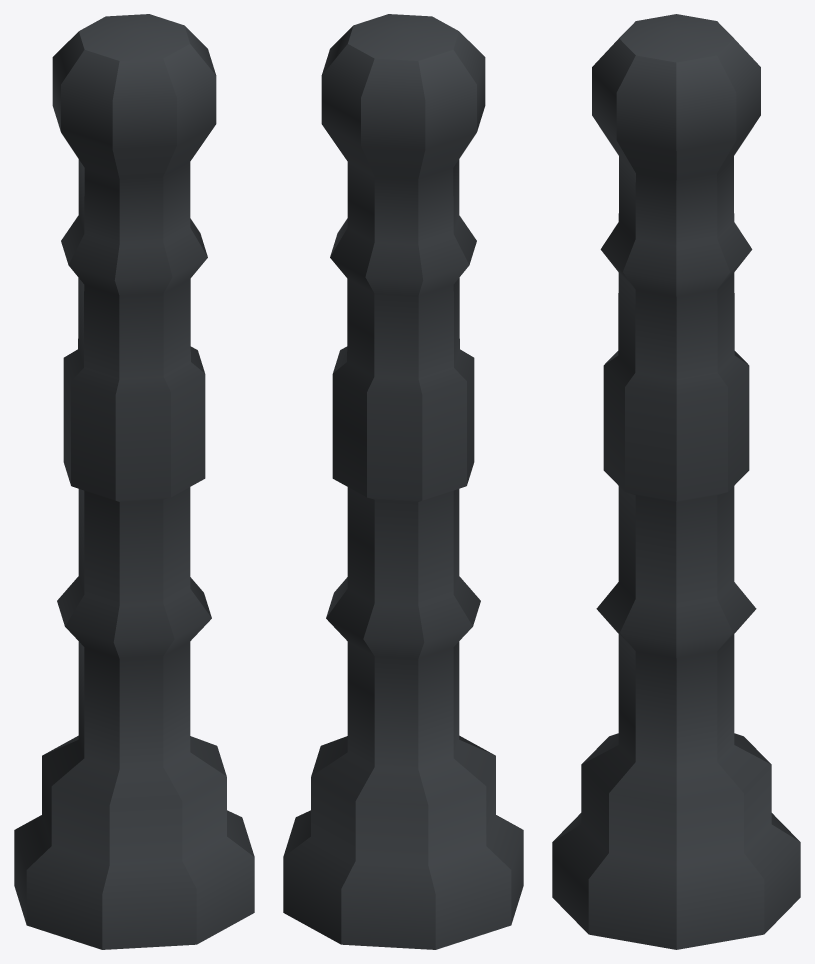
File: SM_Bld_Railing_Chain_Pole_01.fbx
3 renders of one model, left to right at view 1: azimuth 30°, elevation 25°; view 2: azimuth 150°, elevation 25°; view 3: azimuth 270°, elevation 25°, orthographic.
Visible parts, largest first — view 1: SM_Bld_Railing_Chain_Pole_01; view 2: SM_Bld_Railing_Chain_Pole_01; view 3: SM_Bld_Railing_Chain_Pole_01.
Part boxes in pixels (x1,y1,x2,y2): SM_Bld_Railing_Chain_Pole_01: (14, 14, 254, 949); SM_Bld_Railing_Chain_Pole_01: (283, 14, 523, 949); SM_Bld_Railing_Chain_Pole_01: (552, 14, 800, 949).
Size of the model in its own units: 34.86 by 134 by 34.86.
1 material, 1 textured.
